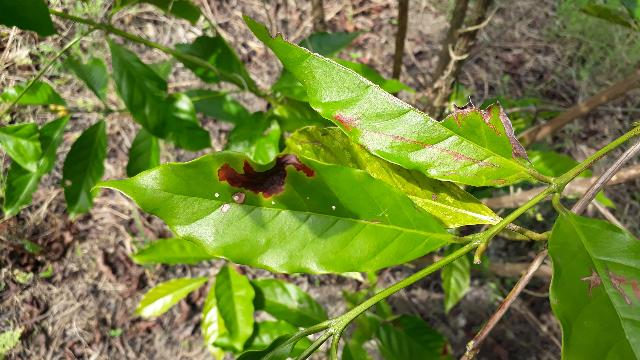red_spider_mite: (90, 151, 457, 270)
